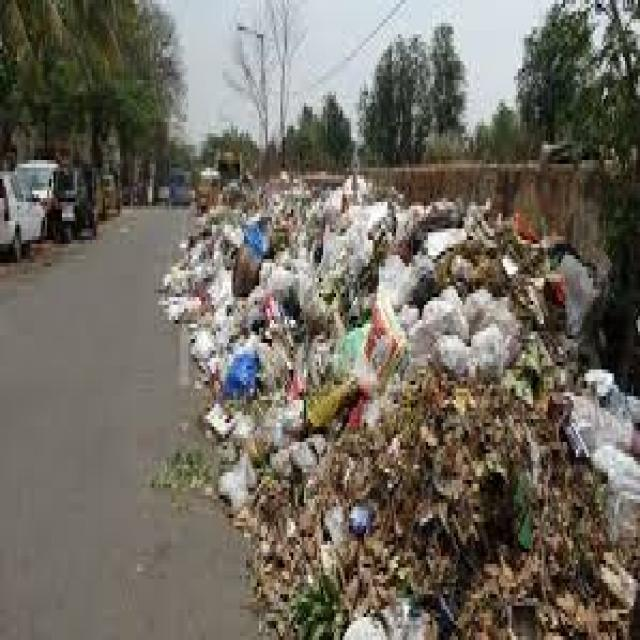heap: (226, 226, 474, 462)
